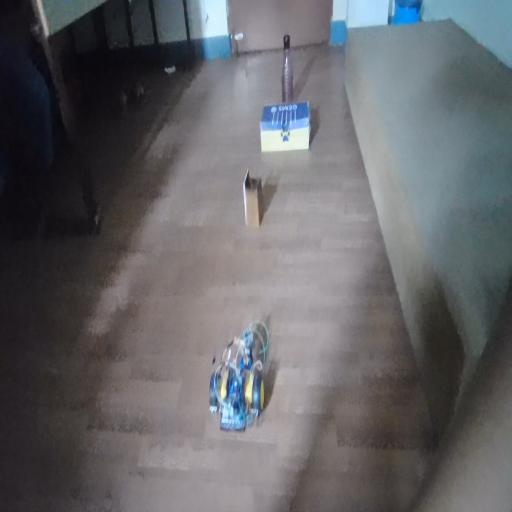Bottle: (274, 27, 304, 108)
car: (203, 301, 274, 459)
